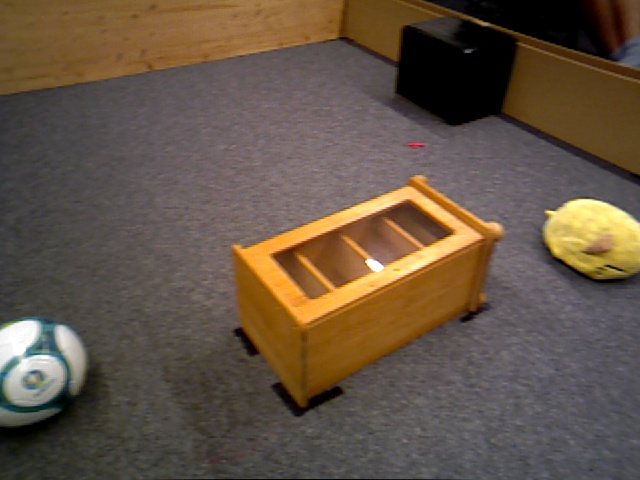grasp: (543, 197, 640, 284)
kick: (1, 319, 87, 429)
push: (400, 24, 516, 127)
